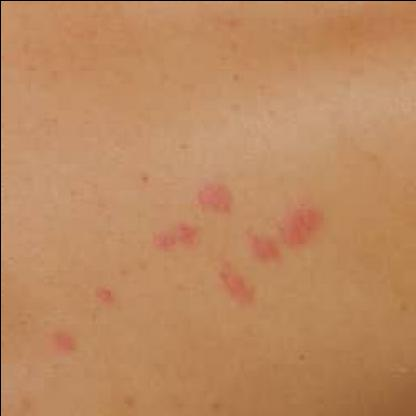Bed Bug: (242, 204, 329, 266), (200, 270, 258, 314), (134, 224, 206, 254), (196, 182, 232, 219), (90, 281, 122, 313), (46, 332, 82, 358)
